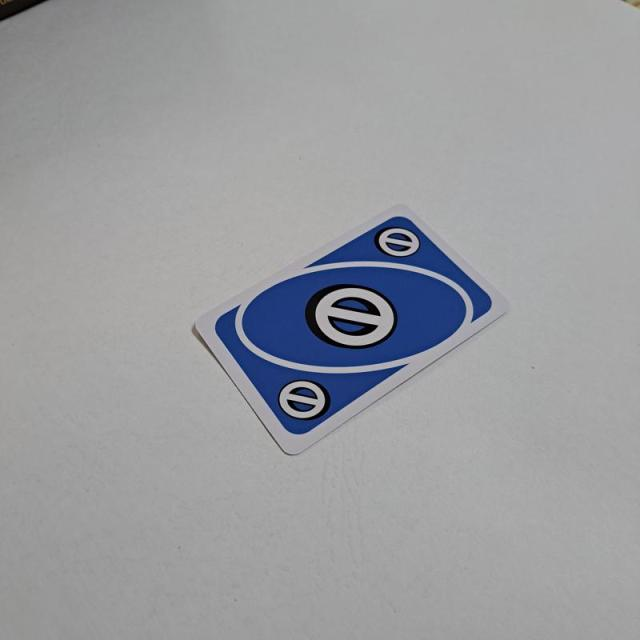Blue_Card: (208, 211, 498, 439)
Skip: (371, 219, 422, 262)
